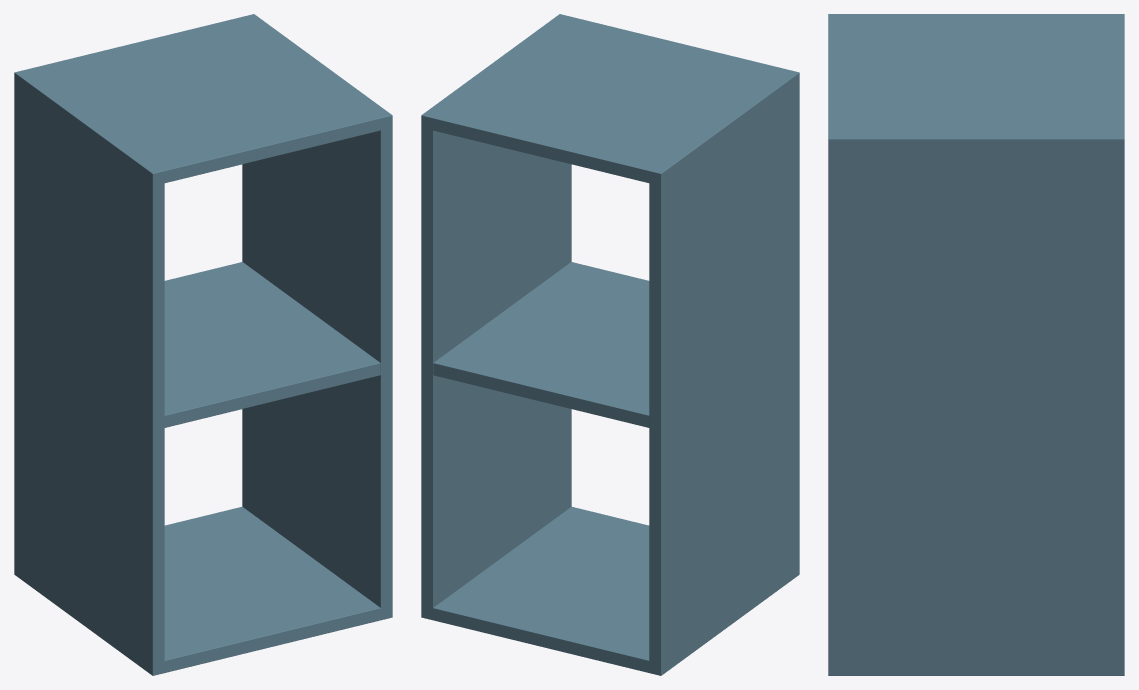
File: MOD-1X2-S-O-AC.glb
3 renders of one model, left to right at view 1: azimuth 30°, elevation 25°; view 2: azimuth 150°, elevation 25°; view 3: azimuth 270°, elevation 25°, orthographic. The views are drawn at different scales.
Bounding box in the file's own units: 360 × 720 × 360.
